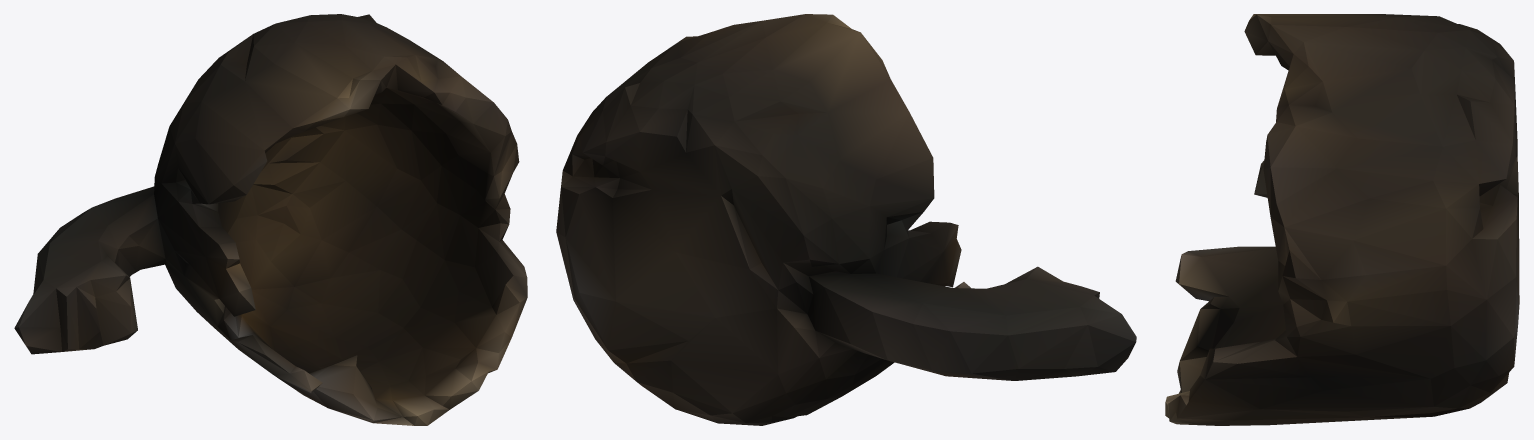
The model's file is WoodCup_LowPoly.obj.
The picture shows the model from 3 angles, left to right: view 1: azimuth 30°, elevation 25°; view 2: azimuth 150°, elevation 25°; view 3: azimuth 270°, elevation 25°; orthographic projection. The views are drawn at different scales.
Size of the model in its own units: 0.1457 by 0.093 by 0.0774.
